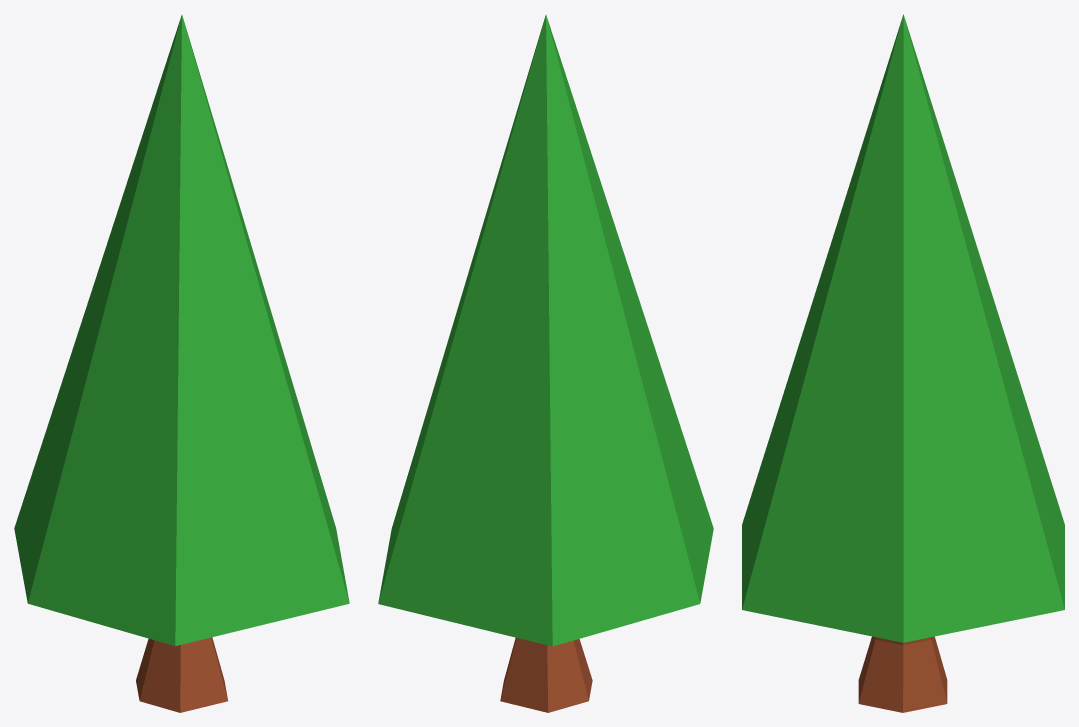
File: SimpleTree.fbx
3 views of the same model, side by side, from view 1: azimuth 30°, elevation 25°; view 2: azimuth 150°, elevation 25°; view 3: azimuth 270°, elevation 25° (orthographic).
Visible parts, largest first — view 1: Cube; view 2: Cube; view 3: Cube.
Part boxes in pixels (left/top/right/bottom): Cube: left=14, top=15, right=349, bottom=712; Cube: left=378, top=15, right=713, bottom=712; Cube: left=742, top=14, right=1064, bottom=712.
Bounding box in the file's own units: 799 × 1675 × 723.
